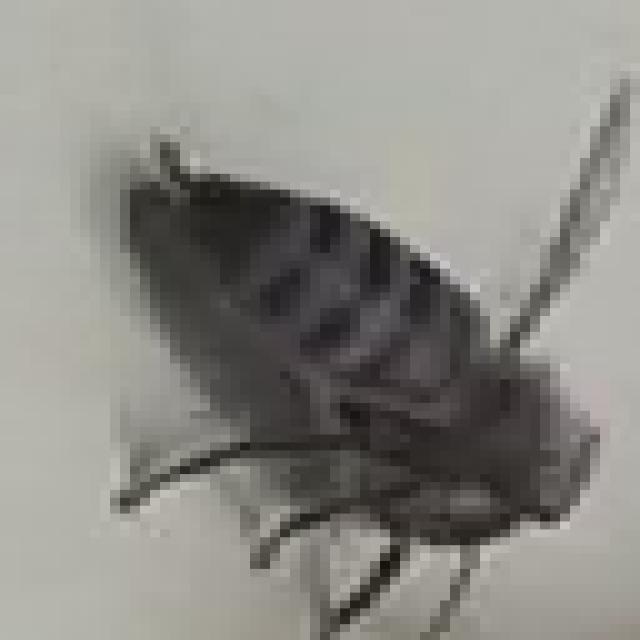honeybee: (123, 127, 616, 611)
